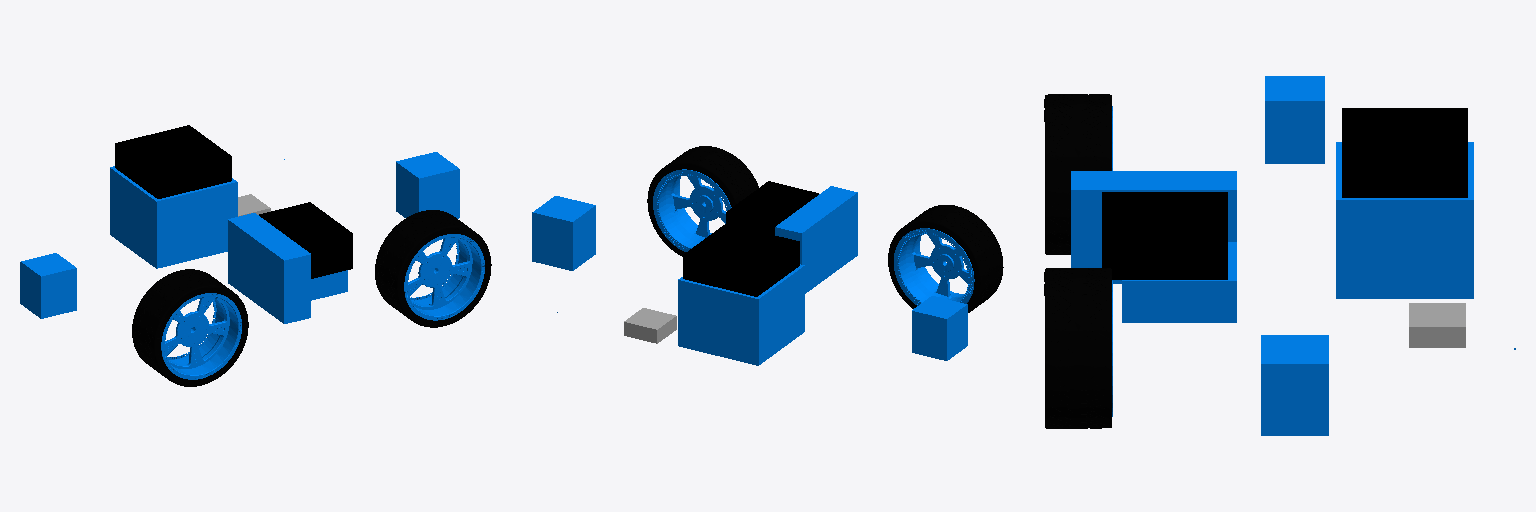
robot.urdf — tas_car:
<?xml version="1.0" ?>
<robot name="tas_car" xmlns:xacro="http://www.ros.org/wiki/xacro">
<!-- =================================================================================== 
     Description: TAS2 robot description file.
     Author: [author]
     Date: Sep 5, 2022                             
     =================================================================================== -->

  <!-- ************ visual materials ************ -->
  <material name="Grey">
    <color rgba="0.7 0.7 0.7 1.0"/>
  </material>
  <material name="Green">
    <color rgba="0.0 1.0 0.0 1.0"/>
  </material>
  <material name="Red">
    <color rgba="1.0 0.0 0.0 1.0"/>
  </material>
  <material name="tas_blue">
    <color rgba="0.01 0.552 1.0 1.0"/>
  </material>
  <material name="Black">
    <color rgba="0 0 0 1.0"/>
  </material>

  <!-- ************ TAS2 basefootprint and base ************ -->
  <link name="base_footprint"/>
  <link name="base">
    <visual>
      <origin rpy="0 0 0" xyz="0 0 0"/>
      <geometry>
        <mesh filename="package://tas2-simulator/models/meshes/model_base_reduced.dae"/>
      </geometry>
    </visual>
    <collision>
      <origin rpy="0 0 0" xyz="0 0 0"/>
      <geometry>
        <mesh filename="package://tas2-simulator/models/meshes/model_base_reduced.dae"/>
      </geometry>
    </collision>
    <inertial>
      <mass value="15.0"/>
      <inertia ixx="0.0135" ixy="0.0" ixz="0.0" iyy="0.03" iyz="0.0" izz="0.433"/>
    </inertial>
  </link>
  <joint name="base_footprint_base_joint" type="fixed">
    <origin rpy="0 0 0" xyz="0.1795 0 0"/>
    <parent link="base_footprint"/>
    <child link="base"/>
  </joint>

  <!-- ************ NUC PC related links and joints ************ -->
  <link name="nuc_base">
    <visual>
      <geometry>
        <box size="0.12 0.12 0.095"/>
      </geometry>
      <material name="tas_blue"/>
    </visual>
    <collision>
      <geometry>
        <box size="0.12 0.12 0.095"/>
      </geometry>
    </collision>
    <inertial>
      <mass value="0.001"/>
      <inertia ixx="0.00195" ixy="0.0" ixz="0.0" iyy="0.00195" iyz="0.0" izz="0.0024"/>
    </inertial>
  </link>
  <gazebo reference="nuc_base">
    <material>tas_blue</material>
  </gazebo>
  <joint name="base_nuc_base_joint" type="fixed">
    <origin rpy="0 0 0" xyz="-0.04 0.096 0.065"/>
    <parent link="base"/>
    <child link="nuc_base"/>
  </joint>
  <link name="nuc">
    <visual>
      <geometry>
        <box size="0.11 0.11 0.035"/>
      </geometry>
      <material name="Black"/>
    </visual>
    <collision>
      <geometry>
        <box size="0.11 0.11 0.035"/>
      </geometry>
    </collision>
    <inertial>
      <mass value="0.001"/>
      <inertia ixx="0.0011" ixy="0.0" ixz="0.0" iyy="0.0011" iyz="0.0" izz="0.00202"/>
    </inertial>
  </link>
  <gazebo reference="nuc">
    <material>Gazebo/Black</material>
  </gazebo>
  <joint name="nuc_base_nuc_joint" type="fixed">
    <origin rpy="0 0 0" xyz="0 0 0.065"/>
    <parent link="nuc_base"/>
    <child link="nuc"/>
  </joint>

  <!-- ************ Battery holder and battery related links and joints ************ -->
  <link name="battery_holder">
    <visual>
      <geometry>
        <box size="0.04 0.145 0.09"/>
      </geometry>
      <material name="tas_blue"/>
    </visual>
    <visual>
      <origin rpy="0 0 0" xyz="0.06 0.0225 -0.025"/>
      <geometry>
        <box size="0.08 0.1 0.04"/>
      </geometry>
      <material name="tas_blue"/>
    </visual>
    <collision>
      <geometry>
        <box size="0.04 0.145 0.09"/>
      </geometry>
    </collision>
    <collision>
      <origin rpy="0 0 0" xyz="0.06 0.0225 -0.025"/>
      <geometry>
        <box size="0.08 0.1 0.04"/>
      </geometry>
    </collision>
    <inertial>
      <mass value="0.001"/>
      <inertia ixx="0.00243" ixy="0.0" ixz="0.0" iyy="0.0008" iyz="0.0" izz="0.00189"/>
    </inertial>
    <inertial>
      <mass value="0.001"/>
      <ineria ixx="0.00097" ixy="0.0" ixz="0.0" iyy="0.0007" iyz="0.0" izz="0.00137"/>
      <origin rpy="0 0 0" xyz="0.06 0.0225 -0.025"/>
    </inertial>
  </link>
  <gazebo reference="battery_holder">
    <material>tas_blue</material>
  </gazebo>
  <joint name="base_battery_holder_joint" type="fixed">
    <origin rpy="0 0 0" xyz="-0.025 -0.1235 0.065"/>
    <parent link="base"/>
    <child link="battery_holder"/>
  </joint>
  <link name="battery">
    <visual>
      <geometry>
        <box size="0.075 0.11 0.05"/>
      </geometry>
      <material name="Black"/>
    </visual>
    <collision>
      <geometry>
        <box size="0.075 0.11 0.05"/>
      </geometry>
    </collision>
    <inertial>
      <mass value="0.001"/>
      <inertia ixx="0.00122" ixy="0.0" ixz="0.0" iyy="0.00068" iyz="0.0" izz="0.00148"/>
    </inertial>
  </link>
  <gazebo reference="battery">
    <material>Gazebo/Black</material>
  </gazebo>
  <joint name="battery_holder_battery_joint" type="fixed">
    <origin rpy="0 0 0" xyz="0.06 0.01 0.02"/>
    <parent link="battery_holder"/>
    <child link="battery"/>
  </joint>

  <!-- ************ Wheels related links and joints ************ -->
  <!--  Front rigt wheel  -->
  <link name="r_ack_link">
    <visual>
      <geometry>
        <box size="0.001 0.001 0.001"/>
      </geometry>
      <material name="tas_blue"/>
    </visual>
    <collision>
      <geometry>
        <box size="0.001 0.001 0.001"/>
      </geometry>
    </collision>
    <inertial>
      <mass value="0.5"/>
      <origin rpy="0 0 0" xyz="0 0 0"/>
      <inertia ixx="0.001" ixy="0.0" ixz="0.0" iyy="0.001" iyz="0.0" izz="0.001"/>
    </inertial>
  </link>
  <gazebo reference="r_ack_link">
    <material>tas_blue</material>
  </gazebo>
  <joint name="r_ack_joint" type="fixed">
    <origin rpy="0 0 0" xyz="0.1794 -0.19189 0.0435"/>
    <parent link="base"/>
    <child link="r_ack_link"/>
    <limit upper="3.1415" lower="-3.1415" effort="30" velocity="20"/>
  </joint>
  <link name="r_f_wheel">
    <visual>
      <origin rpy="0 0 0" xyz="0 0 0"/>
      <geometry>
        <mesh filename="package://tas2-simulator/models/meshes/model_wheel_right.dae"/>
      </geometry>
    </visual>
    <collision>
      <geometry>
        <mesh filename="package://tas2-simulator/models/meshes/model_wheel_right_collision.dae"/>
      </geometry>
    </collision>
    <inertial>
      <mass value="0.5"/>
      <origin xyz="0 0 0"/>
      <inertia ixx="0.00812" ixy="0.0" ixz="0.0" iyy="0.00812" iyz="0.0" izz="0.0156"/>
    </inertial>
  </link>
  <gazebo reference="r_f_wheel">
    <fdir1>1 0 0</fdir1>
    <maxContacts>1</maxContacts>
    <minDepth>0.005</minDepth>
    <collision>
      <surface>
        <friction>
          <ode>
            <mu>100000.0</mu>
            <mu2>100000.0</mu2>
            <slip1>0.0</slip1>
            <slip2>0.0</slip2>
          </ode>
          <torsional>
            <coefficient>10.0</coefficient>
            <surface_radius>1.0</surface_radius>
            <use_patch_radius>true</use_patch_radius>
          </torsional>
        </friction>
      </surface>
    </collision>
  </gazebo>
  <!--  Front left wheel  -->
  <link name="l_ack_link">
    <visual>
      <geometry>
        <box size="0.001 0.001 0.001"/>
      </geometry>
      <material name="tas_blue"/>
    </visual>
    <collision>
      <geometry>
        <box size="0.001 0.001 0.001"/>
      </geometry>
    </collision>
    <inertial>
      <mass value="0.5"/>
      <inertia ixx="0.001" ixy="0.0" ixz="0.0" iyy="0.001" iyz="0.0" izz="0.001"/>
    </inertial>
  </link>
  <gazebo reference="l_ack_link">
    <material>tas_blue</material>
  </gazebo>
  <joint name="l_ack_joint" type="fixed">
    <origin rpy="0 0 0" xyz="0.1794 0.19189 0.0435"/>
    <parent link="base"/>
    <child link="l_ack_link"/>
    <limit upper="3.1415" lower="-3.1415" effort="30" velocity="20"/>

  </joint>
  <link name="l_f_wheel">
    <visual>
      <origin rpy="0 0 0" xyz="0 0 0"/>
      <geometry>
        <mesh filename="package://tas2-simulator/models/meshes/model_wheel_left.dae"/>
      </geometry>
    </visual>
    <collision>
      <geometry>
        <mesh filename="package://tas2-simulator/models/meshes/model_wheel_left_collision.dae"/>
      </geometry>
    </collision>
    <inertial>
      <mass value="0.5"/>
      <origin xyz="0 0 0"/>
      <inertia ixx="0.00812" ixy="0.0" ixz="0.0" iyy="0.00812" iyz="0.0" izz="0.0156"/>
    </inertial>
  </link>
  <gazebo reference="l_f_wheel">
    <fdir1>1 0 0</fdir1>
    <maxContacts>1</maxContacts>
    <minDepth>0.005</minDepth>
    <collision>
      <surface>
        <friction>
          <ode>
            <mu>100000.0</mu>
            <mu2>100000.0</mu2>
            <slip1>0.0</slip1>
            <slip2>0.0</slip2>
          </ode>
          <torsional>
            <coefficient>10.0</coefficient>
            <surface_radius>1.0</surface_radius>
            <use_patch_radius>true</use_patch_radius>
          </torsional>
        </friction>
      </surface>
    </collision>
  </gazebo>
  <!--  Ackermann steering related joints. Not particularly used in case of differential drive steering  -->
  <joint name="l_ack_link_l_f_wheel_joint" type="revolute">
    <axis xyz="0 0 1"/>
    <origin rpy="1.570796325 0 3.14159265" xyz="0 0 0"/>
    <parent link="l_ack_link"/>
    <child link="l_f_wheel"/>
    <limit effort="1000000" lower="-0.4" upper="0.4" velocity="20"/>
  </joint>
  <joint name="r_ack_link_r_f_wheel_joint" type="revolute">
    <axis xyz="0 0 1"/>
    <origin rpy="1.570796325 0 3.14159265" xyz="0 0 0"/>
    <parent link="r_ack_link"/>
    <child link="r_f_wheel"/>
    <limit effort="1000000" lower="-0.4" upper="0.4" velocity="20"/>

  </joint>
  <!--  Back left wheel  -->
  <link name="l_b_wheel">
    <visual>
      <origin rpy="0 0 0" xyz="0 0 0"/>
      <geometry>
        <mesh filename="package://tas2-simulator/models/meshes/model_wheel_left.dae"/>
      </geometry>
    </visual>
    <collision>
      <geometry>
        <mesh filename="package://tas2-simulator/models/meshes/model_wheel_left_collision.dae"/>
      </geometry>
    </collision>
    <inertial>
      <mass value="0.5"/>
      <origin xyz="0 0 0"/>
      <inertia ixx="0.00812" ixy="0.0" ixz="0.0" iyy="0.00812" iyz="0.0" izz="0.0156"/>
    </inertial>
  </link>
  <gazebo reference="l_b_wheel">
    <fdir1>1 0 0</fdir1>
    <maxContacts>1</maxContacts>
    <minDepth>0.005</minDepth>
    <collision>
      <surface>
        <friction>
          <ode>
            <mu>100000.0</mu>
            <mu2>100000.0</mu2>
            <slip1>0.0</slip1>
            <slip2>0.0</slip2>
          </ode>
          <torsional>
            <coefficient>10.0</coefficient>
            <surface_radius>1.0</surface_radius>
            <use_patch_radius>true</use_patch_radius>
          </torsional>
        </friction>
      </surface>
    </collision>
  </gazebo>
  <joint name="base_l_b_wheel_joint" type="revolute">
    <axis xyz="0 0 1"/>
    <origin rpy="1.570796325 0 3.14159265" xyz="-0.1795 0.19189 0.0435"/>
    <parent link="base"/>
    <child link="l_b_wheel"/>
    <limit upper="3.1415" lower="-3.1415" effort="30" velocity="20"/>

  </joint>
  <!--  Back right wheel  -->
  <link name="r_b_wheel">
    <visual>
      <origin rpy="0 0 0" xyz="0 0 0"/>
      <geometry>
        <mesh filename="package://tas2-simulator/models/meshes/model_wheel_right.dae"/>
      </geometry>
    </visual>
    <collision>
      <geometry>
        <mesh filename="package://tas2-simulator/models/meshes/model_wheel_right_collision.dae"/>
      </geometry>
    </collision>
    <inertial>
      <mass value="0.5"/>
      <origin xyz="0 0 0"/>
      <inertia ixx="0.00812" ixy="0.0" ixz="0.0" iyy="0.00812" iyz="0.0" izz="0.0156"/>
    </inertial>
  </link>
  <gazebo reference="r_b_wheel">
    <fdir1>1 0 0</fdir1>
    <maxContacts>1</maxContacts>
    <minDepth>0.005</minDepth>
    <collision>
      <surface>
        <friction>
          <ode>
            <mu>100000.0</mu>
            <mu2>100000.0</mu2>
            <slip1>0.0</slip1>
            <slip2>0.0</slip2>
          </ode>
          <torsional>
            <coefficient>10.0</coefficient>
            <surface_radius>1.0</surface_radius>
            <use_patch_radius>true</use_patch_radius>
          </torsional>
        </friction>
      </surface>
    </collision>
  </gazebo>
  <joint name="base_r_b_wheel_joint" type="revolute">
    <axis xyz="0 0 1"/>
    <origin rpy="1.570796325 0 3.14159265" xyz="-0.1795 -0.19189 0.0435"/>
    <parent link="base"/>
    <child link="r_b_wheel"/>
    <limit upper="3.1415" lower="-3.1415" effort="30" velocity="20"/>
  </joint>

  <!-- ************ Front and back lasers related links and joints ************ -->
  <!--  Front laser support structures, links, joints  -->
  <link name="laser_sup_front">
    <visual>
      <geometry>
        <box size="0.06 0.06 0.07"/>
      </geometry>
      <material name="tas_blue"/>
    </visual>
    <collision>
      <geometry>
        <box size="0.06 0.06 0.07"/>
      </geometry>
    </collision>
    <inertial>
      <mass value="0.001"/>
      <inertia ixx="0.00071" ixy="0.0" ixz="0.0" iyy="0.00071" iyz="0.0" izz="0.0006"/>
    </inertial>
  </link>
  <joint name="base_laser_sup_front_joint" type="fixed">
    <origin rpy="0 0 0" xyz="0.28 0 0.055"/>
    <parent link="base"/>
    <child link="laser_sup_front"/>
  </joint>
  <link name="laser_front_link">
    <visual>
      <origin xyz="0 0 -0.025"/>
      <geometry>
        <mesh filename="package://tas2-simulator/models/meshes/hokuyo.dae"/>
      </geometry>
      <material name="Green"/>
    </visual>
    <collision>
      <origin xyz="0 0 -0.025"/>
      <geometry>
        <box size="0.05 0.05 0.07"/>
      </geometry>
    </collision>
    <inertial>
      <mass value="0.001"/>
      <origin xyz="0 0 0"/>
      <inertia ixx="0.0001" ixy="0.0" ixz="0.0" iyy="0.0001" iyz="0.0" izz="0.0001"/>
    </inertial>
  </link> --> -->
  <joint name="laser_front_joint" type="fixed">
    <origin rpy="0 0 0" xyz="0.28 0.0 0.15"/>
    <parent link="base"/>
    <child link="laser_front_link"/>
  </joint>
  <!--  back laser support structures, links, joints  -->
  <link name="laser_sup_back">
    <visual>
      <geometry>
        <box size="0.053 0.053 0.06"/>
      </geometry>
      <material name="tas_blue"/>
    </visual>
    <collision>
      <geometry>
        <box size="0.053 0.053 0.06"/>
      </geometry>
    </collision>
    <inertial>
      <mass value="0.001"/>
      <inertia ixx="0.000534" ixy="0.0" ixz="0.0" iyy="0.000534" iyz="0.0" izz="0.00047"/>
    </inertial>
  </link>
  <joint name="base_laser_sup_back_joint" type="fixed">
    <origin rpy="0 0 0" xyz="-0.28 0 0.05"/>
    <parent link="base"/>
    <child link="laser_sup_back"/>
  </joint> -->
  <link name="laser_back_link">
    <visual>
      <origin xyz="0 0 -0.025"/>
      <geometry>
        <mesh filename="package://tas2-simulator/models/meshes/hokuyo.dae"/>
      </geometry>
      <material name="Green"/>
    </visual>
    <collision>
      <origin xyz="0 0 -0.025"/>
      <geometry>
        <box size="0.05 0.05 0.07"/>
      </geometry>
    </collision>
    <inertial>
      <mass value="0.001"/>
      <origin xyz="0 0 0"/>
      <inertia ixx="0.0001" ixy="0.0" ixz="0.0" iyy="0.0001" iyz="0.0" izz="0.0001"/>
    </inertial>
  </link>
  <joint name="laser_back_joint" type="fixed">
    <origin rpy="0 0 3.14159265" xyz="-0.28 0.0 0.14"/>
    <parent link="base"/>
    <child link="laser_back_link"/>
  </joint>

  <!-- ************ IMU related links and joints ************ -->
  <link name="imu_link">
    <visual>
      <origin rpy="0 0 0" xyz="0 0 0"/>
      <geometry>
        <box size="0.05 0.05 0.02"/>
      </geometry>
      <material name="Grey"/>
    </visual>
    <collision>
      <origin rpy="0 0 0" xyz="0 0 0"/>
      <geometry>
        <box size="0.05 0.05 0.02"/>
      </geometry>
    </collision>
    <inertial>
      <mass value="0.001"/>
      <inertia ixx="0.000242" ixy="0" ixz="0" iyy="0.000242" iyz="0" izz="0.000417"/>
    </inertial>
  </link>
  <joint name="imu_link_joint" type="fixed">
    <origin rpy="0 0 0" xyz="0.08 0.124 0.02"/>
    <parent link="base"/>
    <child link="imu_link"/>
  </joint>
</robot>

--- Facts derived from the render (not from the file) ---
3 views of the same robot in one strip: view 1: azimuth 30°, elevation 25°; view 2: azimuth 150°, elevation 25°; view 3: azimuth 270°, elevation 25° (orthographic).
Robot: tas_car — 17 links, 16 joints (4 revolute, 12 fixed); root link base_footprint; default pose: every joint at zero.
Visible links, largest first — view 1: r_f_wheel, r_b_wheel, nuc_base, battery_holder, nuc, battery, laser_sup_front, laser_sup_back; view 2: nuc_base, r_b_wheel, r_f_wheel, nuc, battery_holder, laser_sup_front, laser_sup_back, battery, imu_link; view 3: nuc_base, battery_holder, nuc, battery, r_f_wheel, r_b_wheel, laser_sup_front, laser_sup_back, imu_link.
Link boxes in pixels (bbox=[...]): r_f_wheel: bbox=[375, 210, 491, 327]; r_b_wheel: bbox=[132, 269, 248, 386]; nuc_base: bbox=[110, 166, 237, 268]; battery_holder: bbox=[228, 213, 347, 323]; nuc: bbox=[115, 125, 231, 198]; battery: bbox=[259, 202, 352, 278]; laser_sup_front: bbox=[396, 152, 459, 218]; laser_sup_back: bbox=[20, 253, 76, 318]; nuc_base: bbox=[678, 264, 804, 365]; r_b_wheel: bbox=[888, 205, 1003, 312]; r_f_wheel: bbox=[647, 146, 758, 256]; nuc: bbox=[683, 224, 799, 296]; battery_holder: bbox=[775, 186, 857, 293]; laser_sup_front: bbox=[532, 196, 595, 270]; laser_sup_back: bbox=[912, 296, 967, 360]; battery: bbox=[726, 181, 818, 234]; imu_link: bbox=[624, 308, 676, 343]; nuc_base: bbox=[1336, 142, 1473, 298]; battery_holder: bbox=[1071, 171, 1236, 322]; nuc: bbox=[1342, 108, 1467, 197]; battery: bbox=[1102, 192, 1227, 279]; r_f_wheel: bbox=[1044, 268, 1112, 428]; r_b_wheel: bbox=[1044, 94, 1112, 254]; laser_sup_front: bbox=[1261, 335, 1328, 435]; laser_sup_back: bbox=[1265, 76, 1324, 163]; imu_link: bbox=[1409, 303, 1465, 347].
Bounding box of the posed robot: 0.6165 × 0.4112 × 0.1739 m (x, y, z).
Meshes: 4 distinct files referenced, 2 mesh visuals loaded (1 Collada DAE); not drawn: 5 (reference not matched to a file when rendering).
